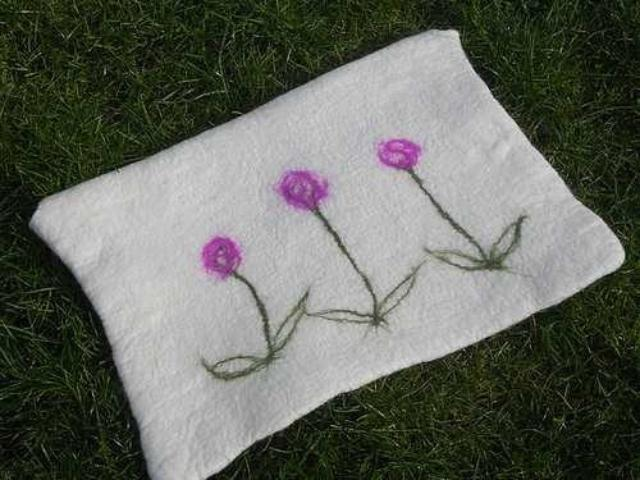pillow: (27, 28, 626, 478)
